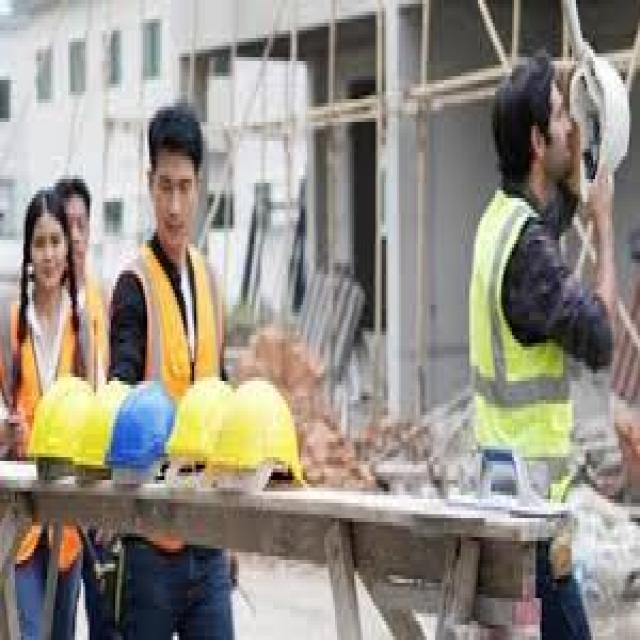Reflective-Jacket: (454, 183, 584, 514), (9, 287, 84, 572), (113, 236, 226, 412), (68, 274, 106, 388)
Safety-Helmet: (215, 374, 308, 508), (486, 42, 576, 148), (23, 370, 106, 472), (109, 373, 176, 488), (76, 376, 133, 492), (183, 369, 232, 502)
